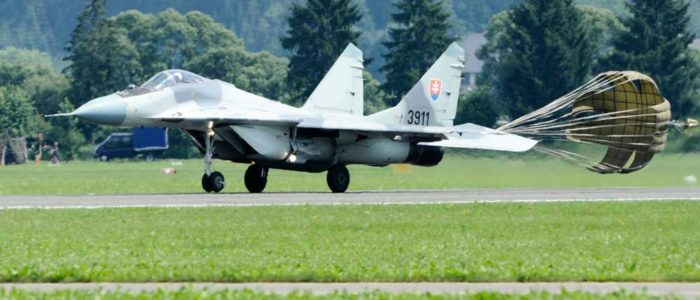Mig-29: (63, 38, 511, 232)
